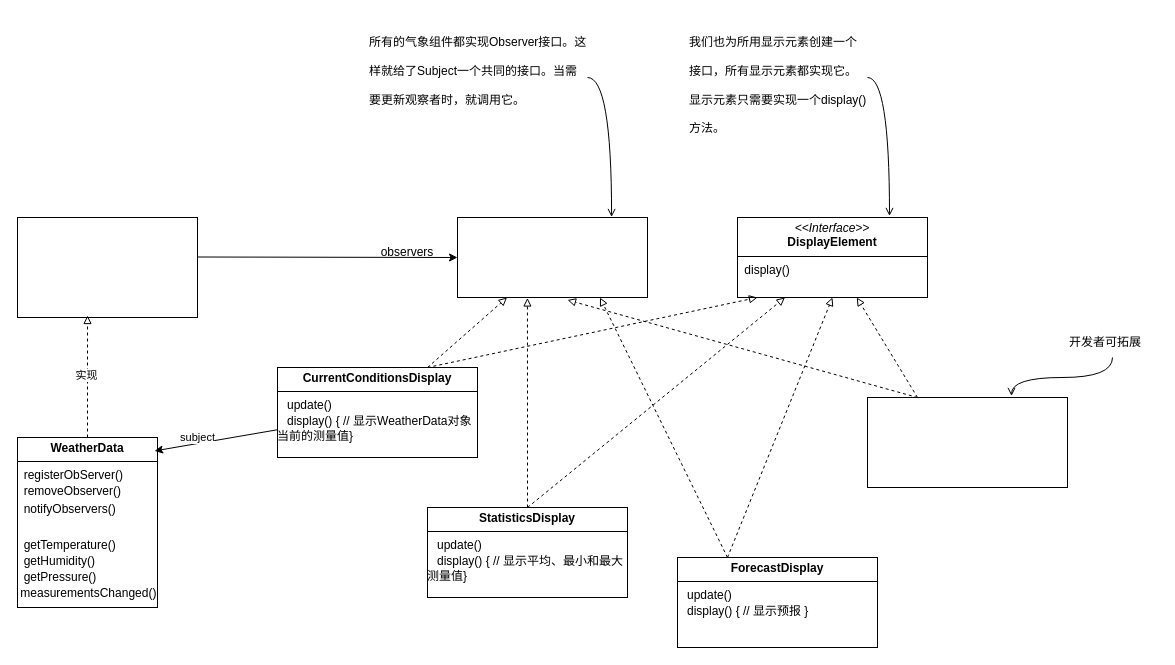
Image size: 1175x665. Some labels were removed from this diagram. The shapes that lost their labels are listed below. From the top down, each one's box as (x1, y1, x2, y2) in pixels, then its label:
(16, 216, 198, 318): <<Interface>> Subject registerObserver() removeObserver() notifyObservers()
(456, 216, 648, 298): <<Interface>> Observer update()
(866, 396, 1068, 488): XxxDisplay update() display() { // 显示其他内容 }
